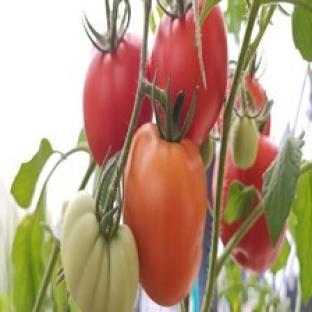Tomato: (123, 123, 206, 306), (150, 6, 228, 146), (62, 191, 139, 311), (84, 33, 142, 164), (222, 136, 278, 215), (230, 116, 259, 169), (234, 74, 268, 115)
